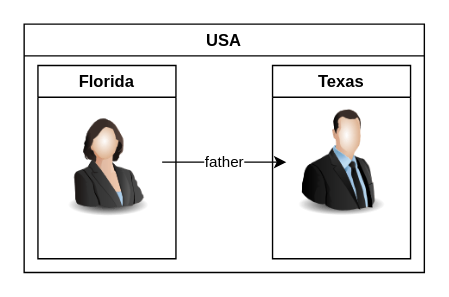
Image size: 449x297. Some labels were removed from this diagram. The centre of each missing label's shape, as x and y in pixels:
"Jane" belongs at [106,161].
"Joe" belongs at [341,161].
